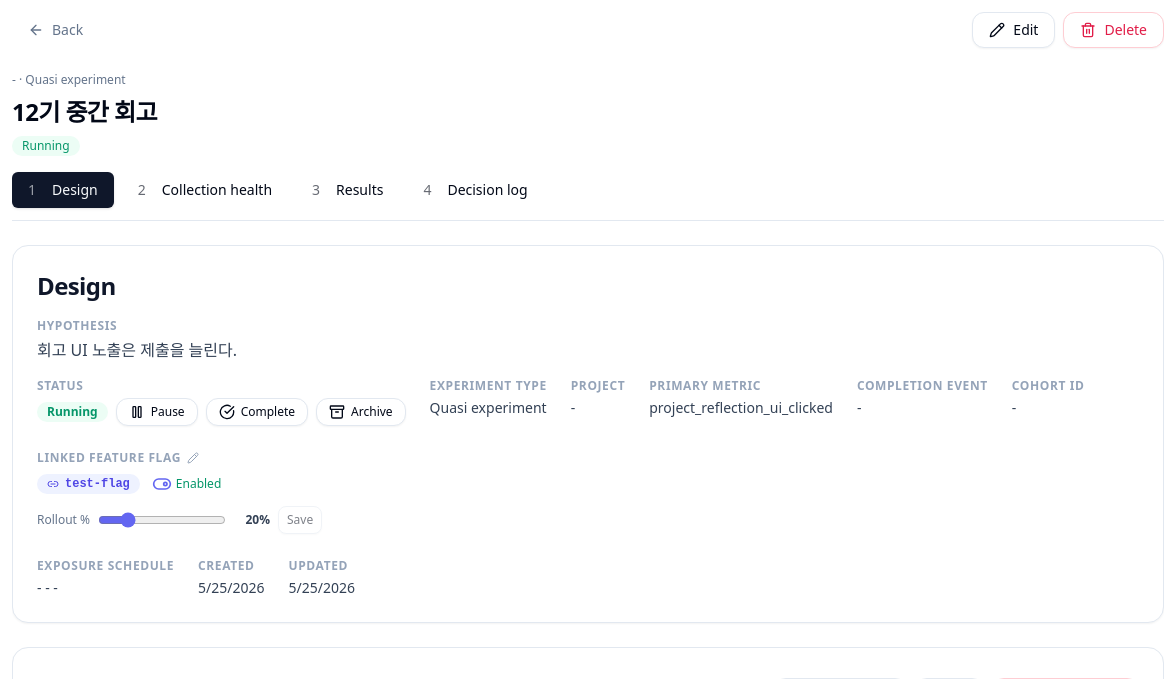
Scenario: ExperimentDetail placements › reports failed flag toggles without changing the shown enabled state
Click the button with aria-label "Disabled" at (187, 484), box x1=152 y1=474 x2=221 y2=494
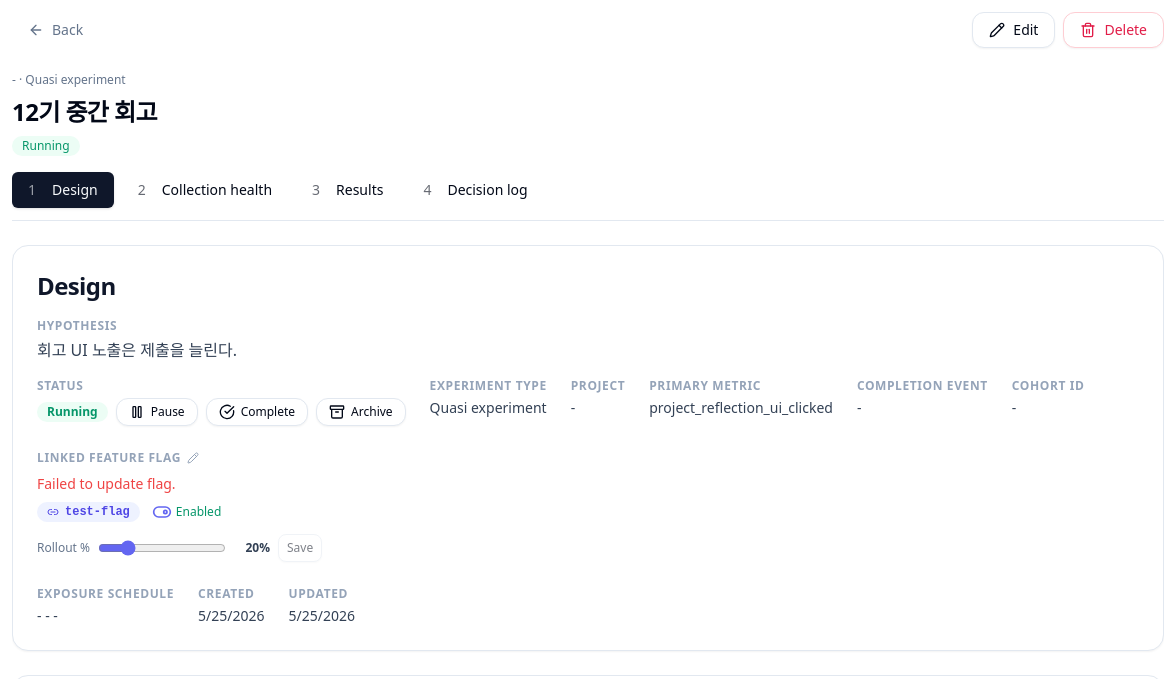
Expected: the button with aria-label "Disabled" reads "Enabled", x1=152 y1=502 x2=221 y2=522
Now the message shows "Failed to update flag", box x1=37 y1=474 x2=176 y2=493
